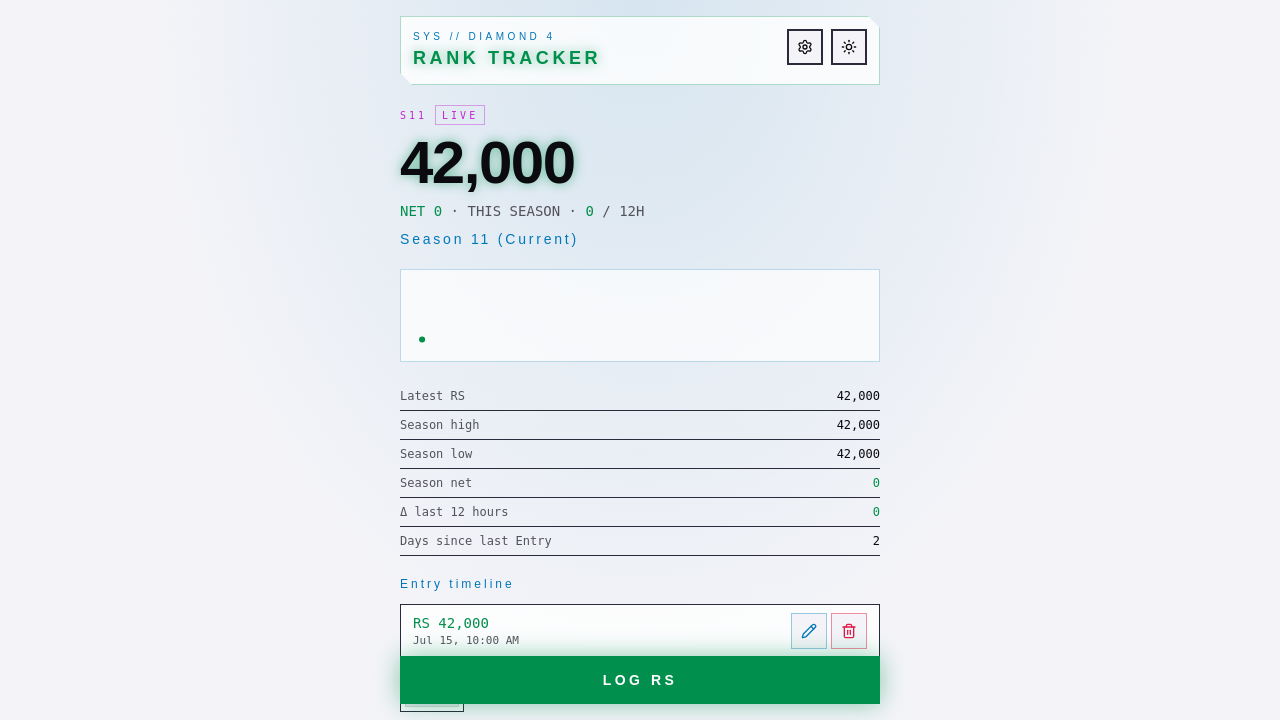
Test: saving Edit Entry persists changes with stable id
Click the button named "Edit entry-edit-1" at (809,631), box [791,613,827,649]
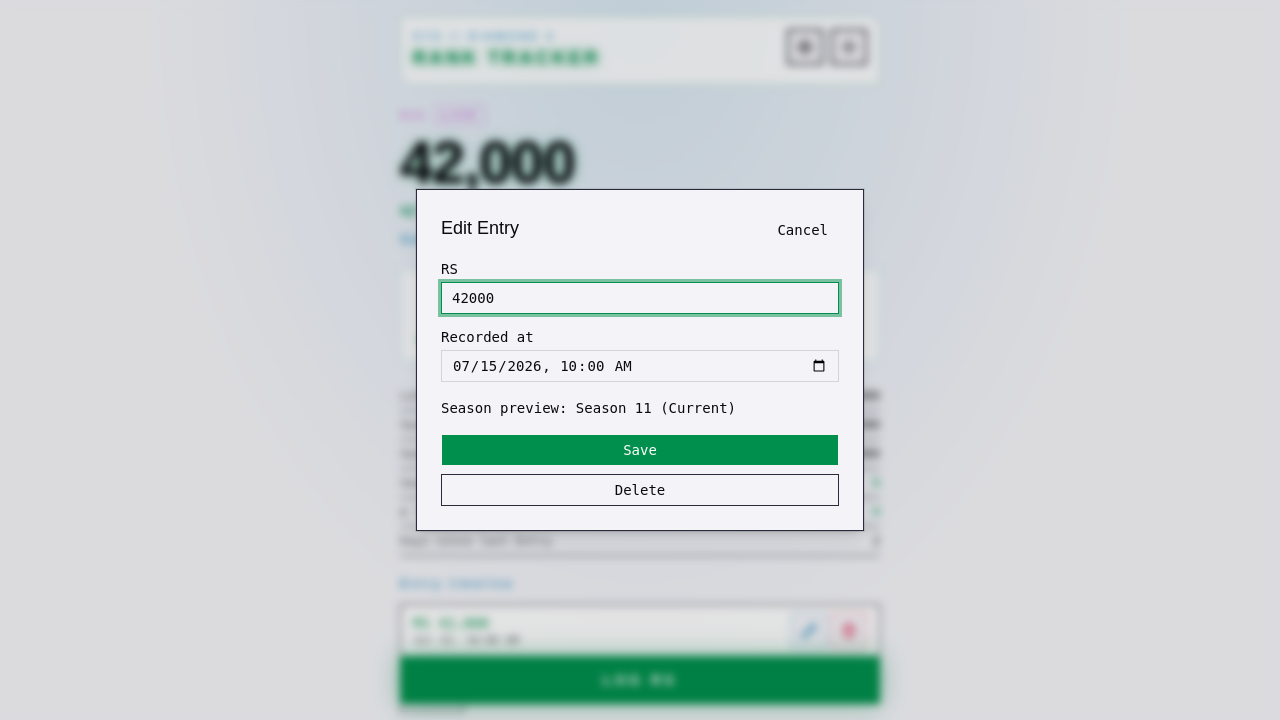
Replace the text in the field labelled "RS" with "45000" at (640,298), box [441,282,839,314]
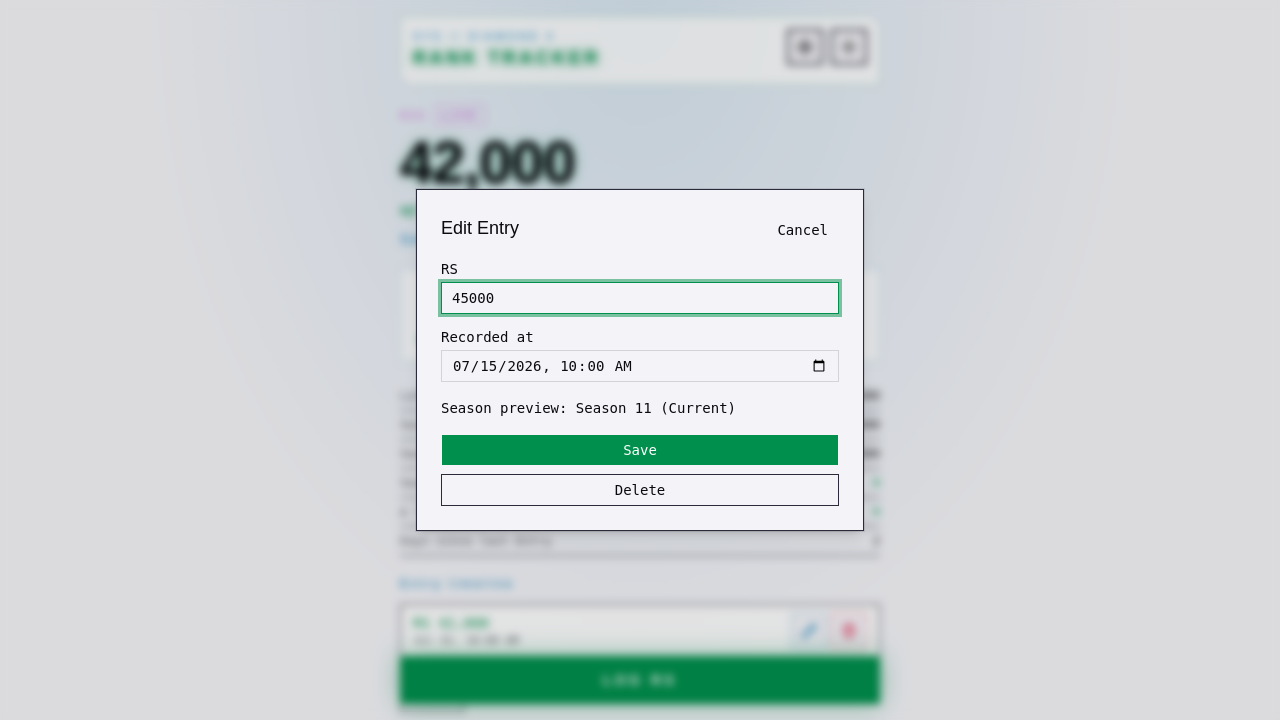
Click the button "Save" at (640,450), box [441,434,839,466]
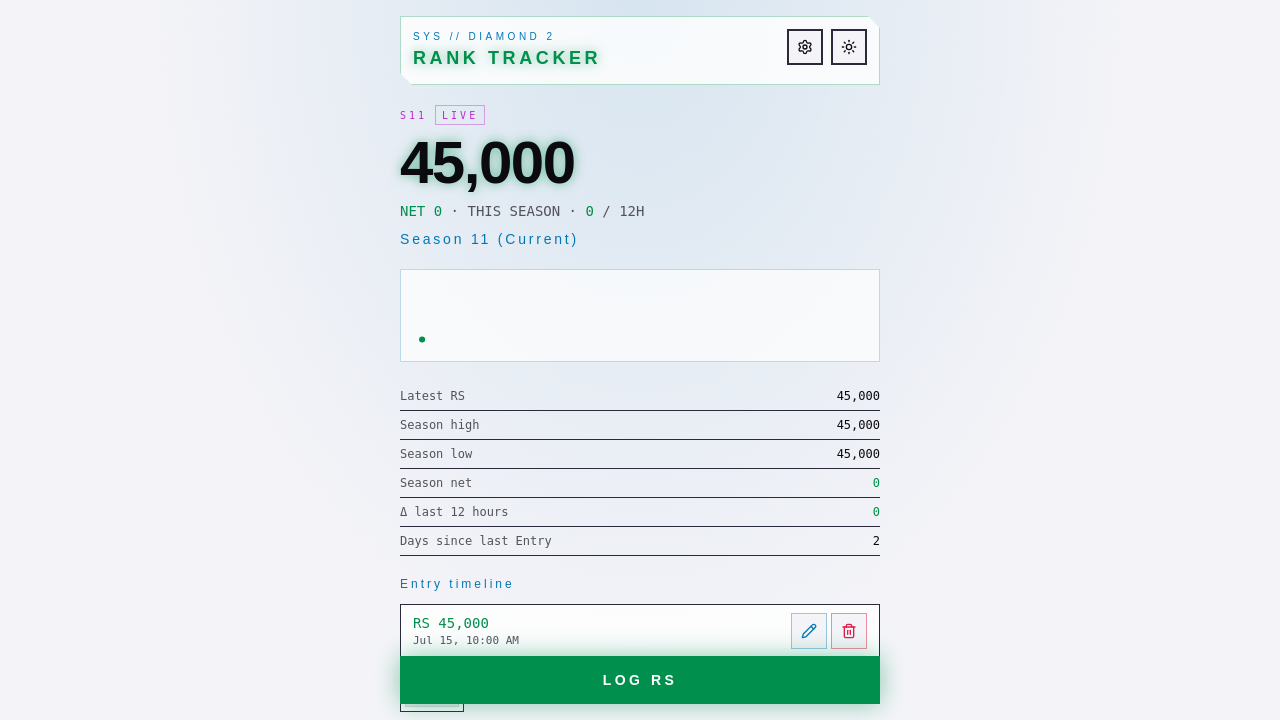
Check: the element named "Season hero" shows "45,000", box [400,129,574,196]
Check: the heading "Edit Entry" is gone
